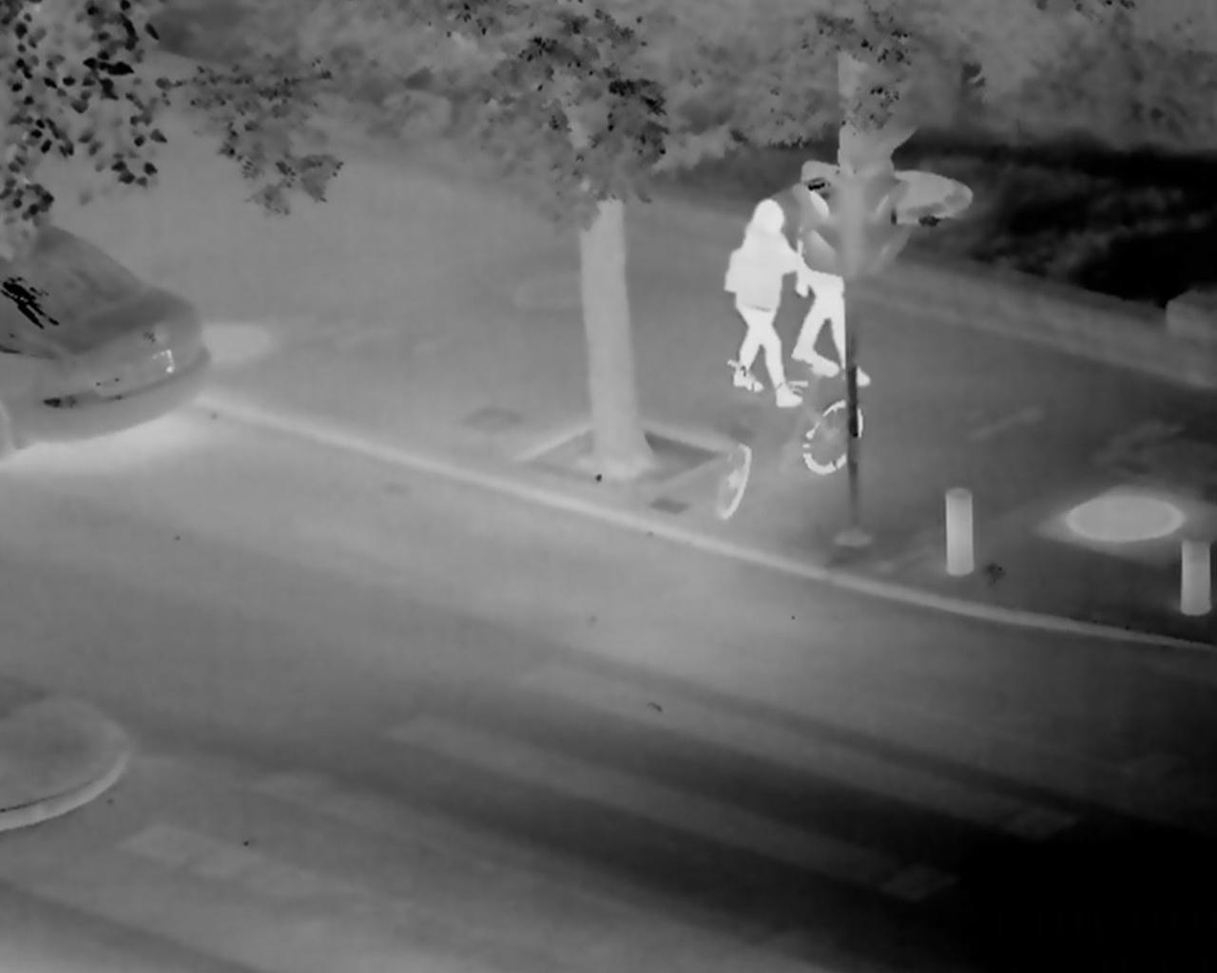person: (794, 172, 869, 391), (719, 200, 796, 407)
